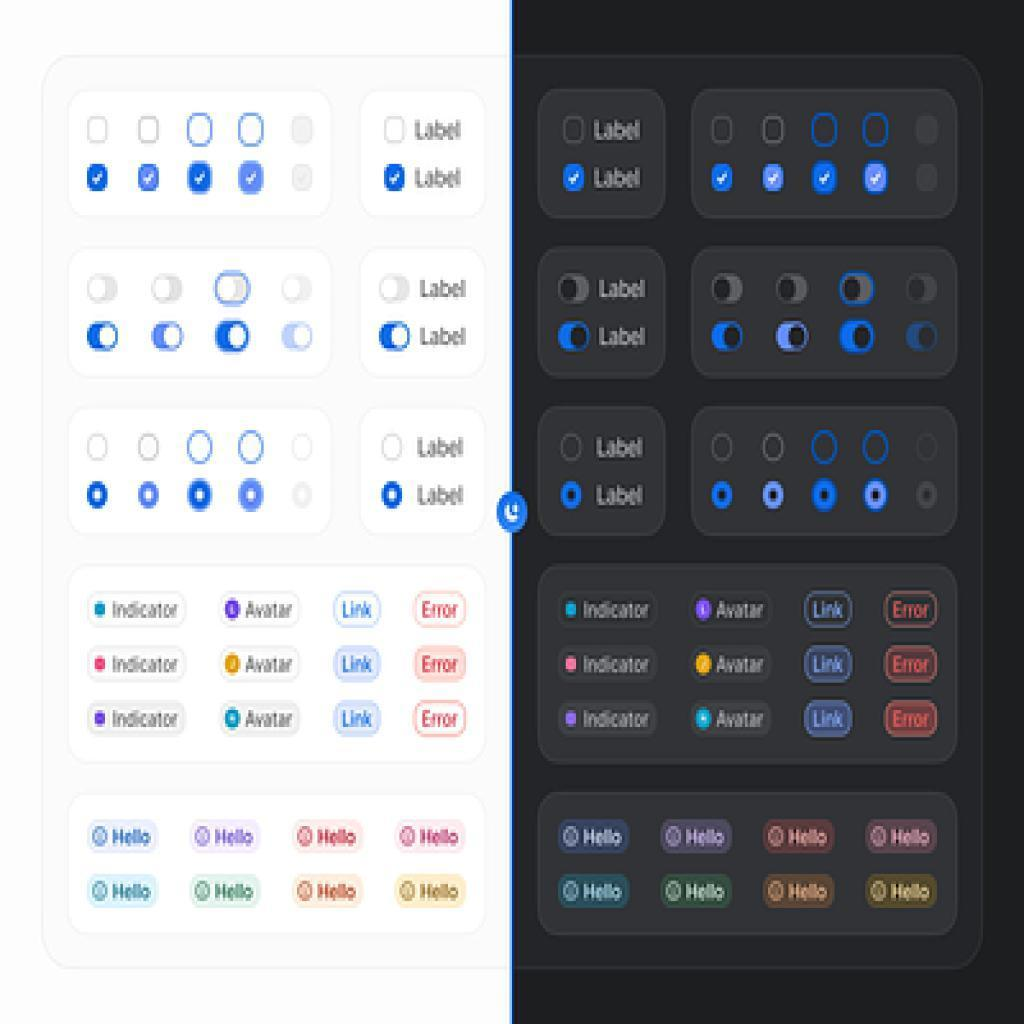checkbox: (811, 113, 840, 149), (863, 112, 890, 149), (238, 161, 267, 195), (187, 114, 215, 149), (239, 114, 264, 149), (188, 161, 213, 195), (813, 163, 837, 196), (915, 116, 941, 146), (762, 116, 787, 145), (87, 164, 110, 194), (138, 163, 161, 193), (139, 116, 161, 147), (563, 117, 587, 144), (916, 166, 940, 193), (865, 165, 888, 193), (563, 165, 586, 192), (763, 164, 785, 192), (385, 165, 406, 194), (87, 118, 109, 145), (712, 166, 734, 193), (385, 118, 406, 146), (291, 117, 312, 145), (713, 117, 734, 145), (291, 167, 313, 193)
radio: (810, 430, 841, 466), (237, 479, 266, 516), (862, 430, 890, 467), (186, 430, 214, 466), (186, 478, 214, 514), (812, 480, 841, 514), (239, 430, 265, 467), (864, 482, 891, 513), (561, 433, 586, 466), (86, 434, 112, 465), (916, 432, 940, 465), (380, 480, 405, 511), (711, 433, 736, 464), (560, 481, 584, 513), (290, 482, 316, 511), (85, 481, 109, 511), (137, 482, 161, 511), (138, 433, 161, 463), (711, 482, 734, 512), (917, 483, 940, 513), (292, 433, 315, 462), (763, 434, 786, 463), (764, 482, 785, 513), (382, 435, 403, 463)
switch: (837, 272, 881, 309), (213, 273, 256, 307), (557, 271, 593, 308), (214, 322, 253, 355), (150, 319, 186, 353), (840, 321, 875, 355), (774, 322, 812, 353), (86, 321, 120, 355), (711, 273, 746, 306), (775, 273, 811, 305), (380, 321, 412, 356), (279, 321, 315, 352), (712, 323, 745, 353), (907, 323, 938, 353), (380, 276, 412, 305), (559, 323, 591, 352), (908, 275, 937, 306), (282, 276, 314, 304), (89, 274, 118, 304), (154, 275, 183, 304)
